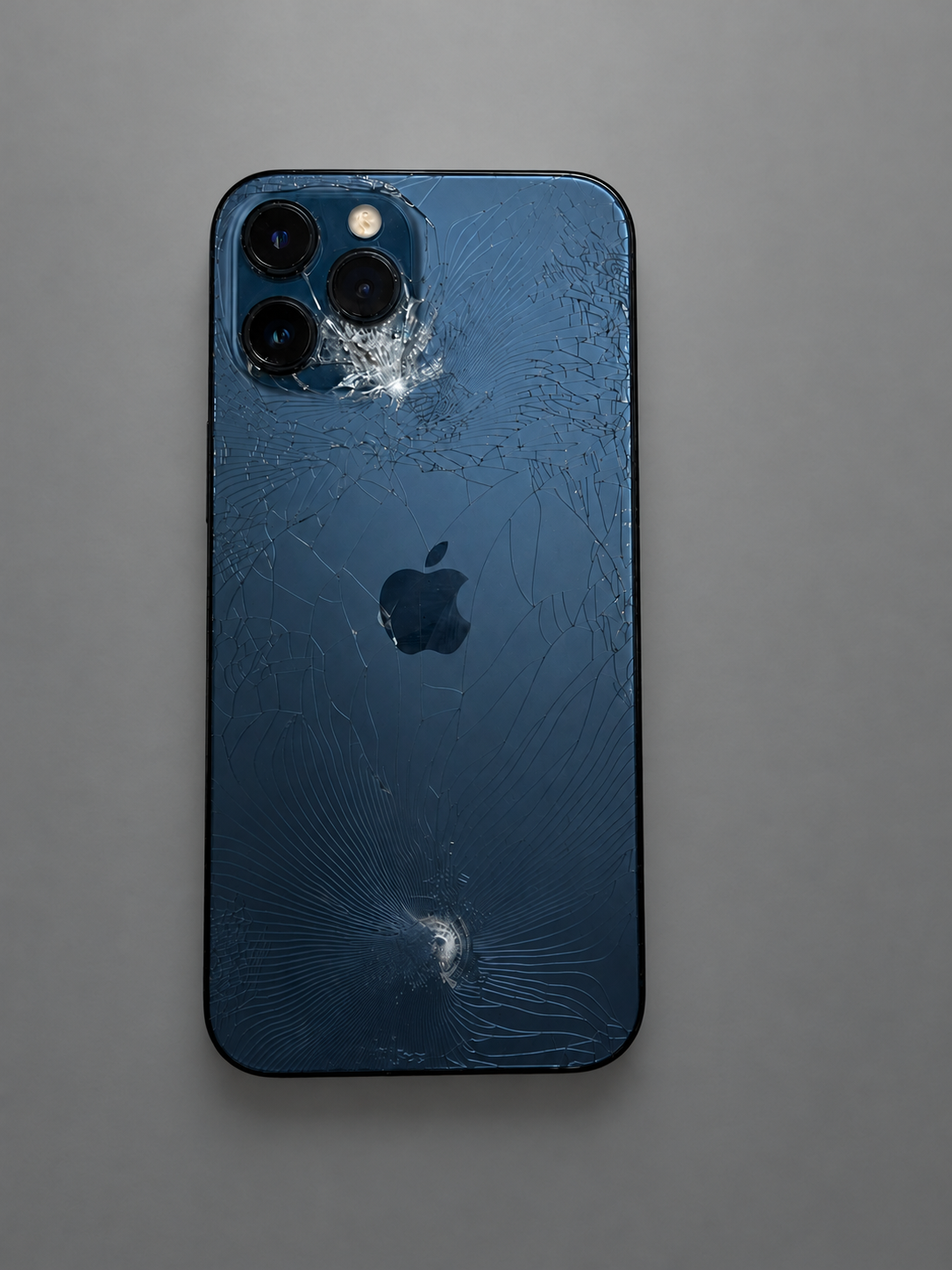iphone_12_pro_max_Crack: (163, 129, 677, 1131)
